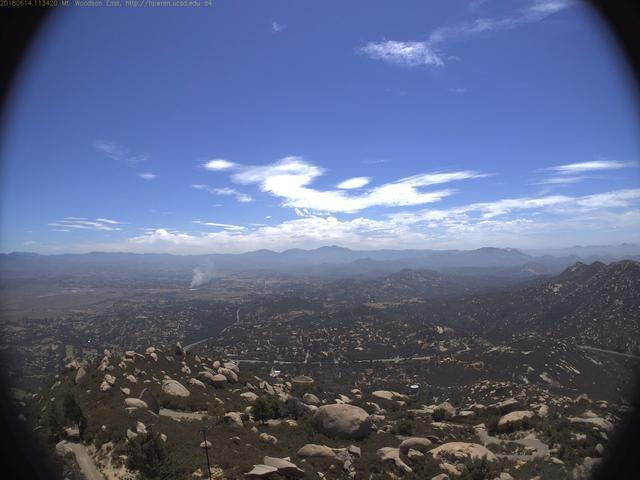smoke: (190, 256, 225, 291)
